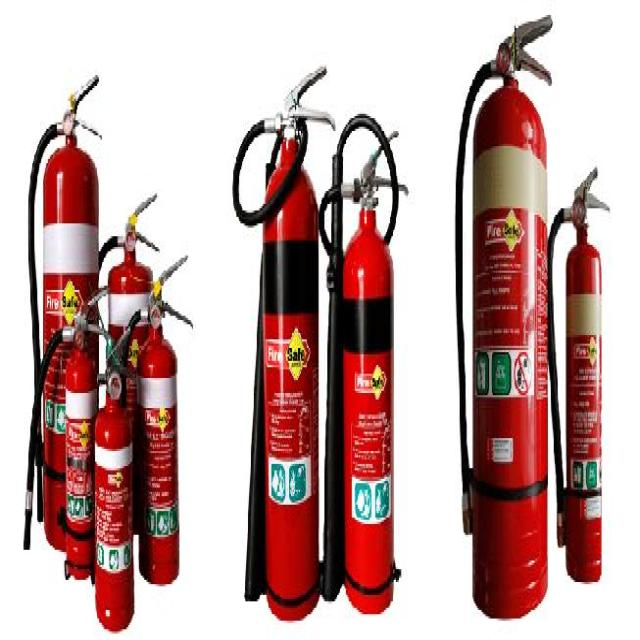fire_extinguisher: (451, 11, 557, 623), (230, 55, 336, 624), (316, 109, 410, 616), (25, 73, 105, 556), (72, 185, 162, 537), (17, 280, 117, 588), (543, 152, 610, 588), (110, 243, 193, 590), (83, 316, 150, 638)
